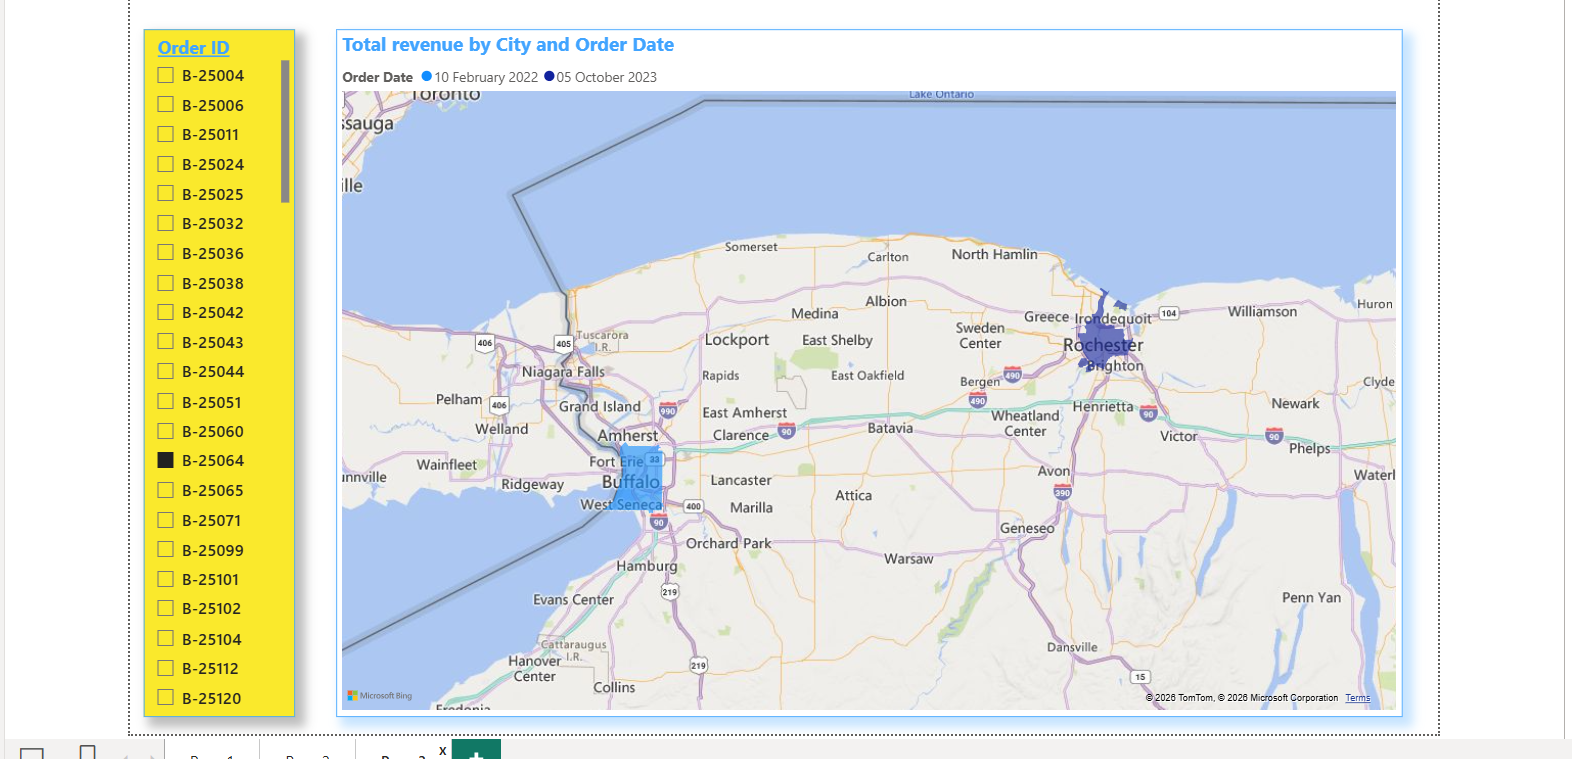

This screenshot's page, from the dashboard's own definition file:
{"tool":"powerbi","page":{"name":"Page 3","canvas":[1280,720],"ordinal":2},"visuals":[{"type":"slicer","fields":{"Values":["Sales Dataset.Order ID"]},"box":[13.5,30.6,148,672.6],"z":0},{"type":"filledMap","fields":{"Category":["Sales Dataset.City"],"Series":["Sales Dataset.Order Date"]},"box":[201.8,30.6,1043.1,672.6],"z":1000}]}

Visuals, with their boxes on the page's 1280x720 design canvas (x1, y1, x2, y2). These are canvas units, not pixel positions in the 1572x759 screenshot, which may show the page scaled, cropped or inside an application window:
slicer - Sales Dataset.Order ID: region(14, 31, 162, 703)
filledMap - Sales Dataset.City x Sales Dataset.Order Date: region(202, 31, 1245, 703)
